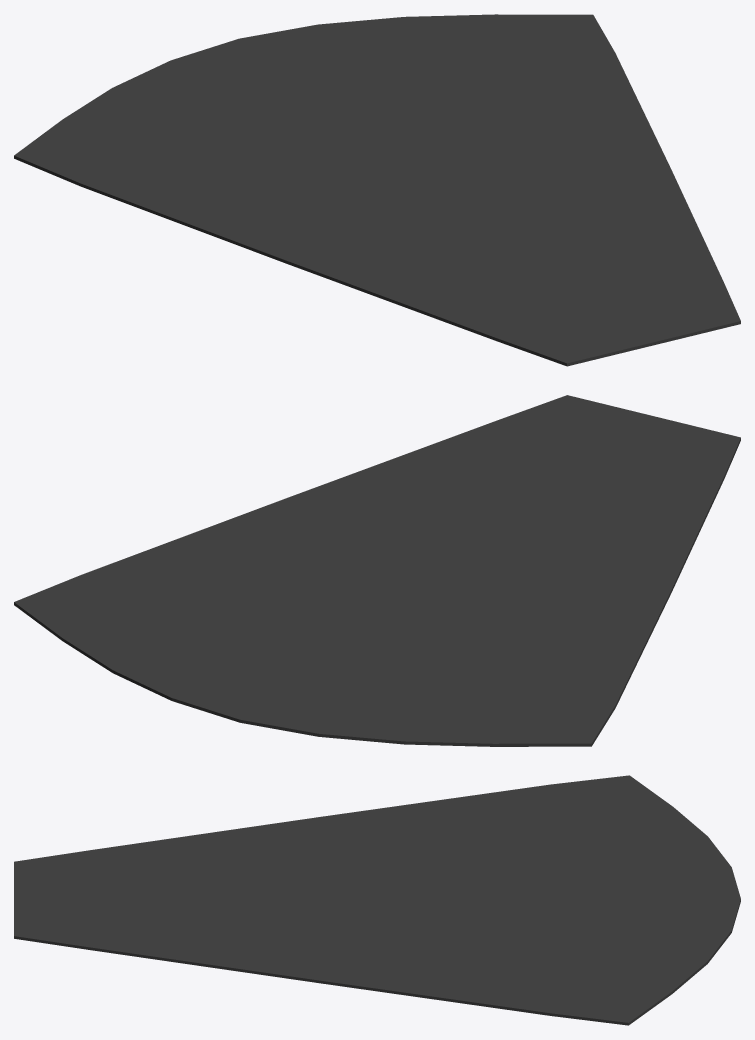
3 renders of one model, top to bottom at view 1: azimuth 30°, elevation 25°; view 2: azimuth 150°, elevation 25°; view 3: azimuth 270°, elevation 25°, orthographic. The views are drawn at different scales.
Parts seen in each view (by area): view 1: Plane; view 2: Plane; view 3: Plane.
Part boxes in pixels (left/top/right/bottom): Plane: left=14, top=14, right=740, bottom=366; Plane: left=14, top=395, right=740, bottom=746; Plane: left=14, top=775, right=740, bottom=1025.
Bounding box in the file's own units: 1.97 × 0.01 × 2.44.
Materials: 1 (1 with a texture image).
